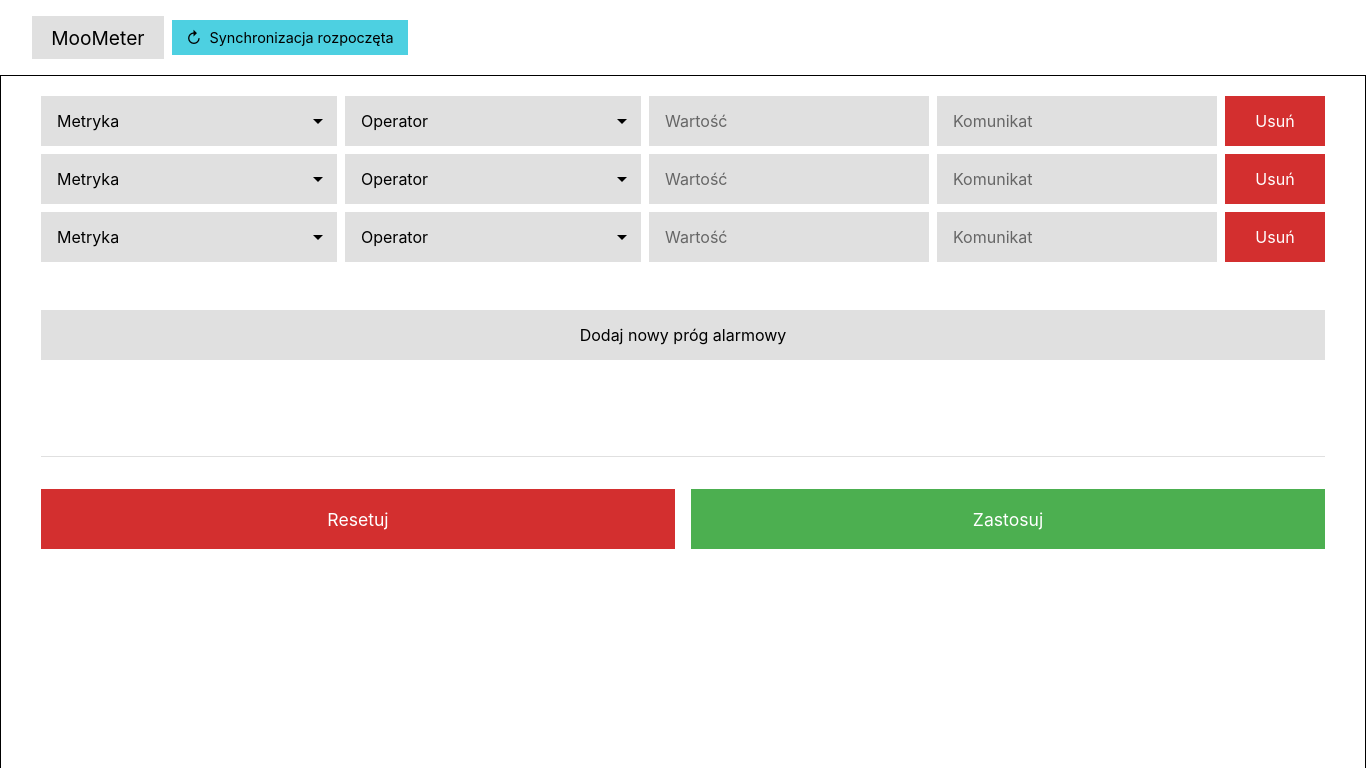
it: ThresholdForm - Formularz progów alarmowych › powinien usunąć wiersz progu po kliknięciu "Usuń"
Click the 1st button "Usuń": (1275, 121) [1225,96,1325,146]
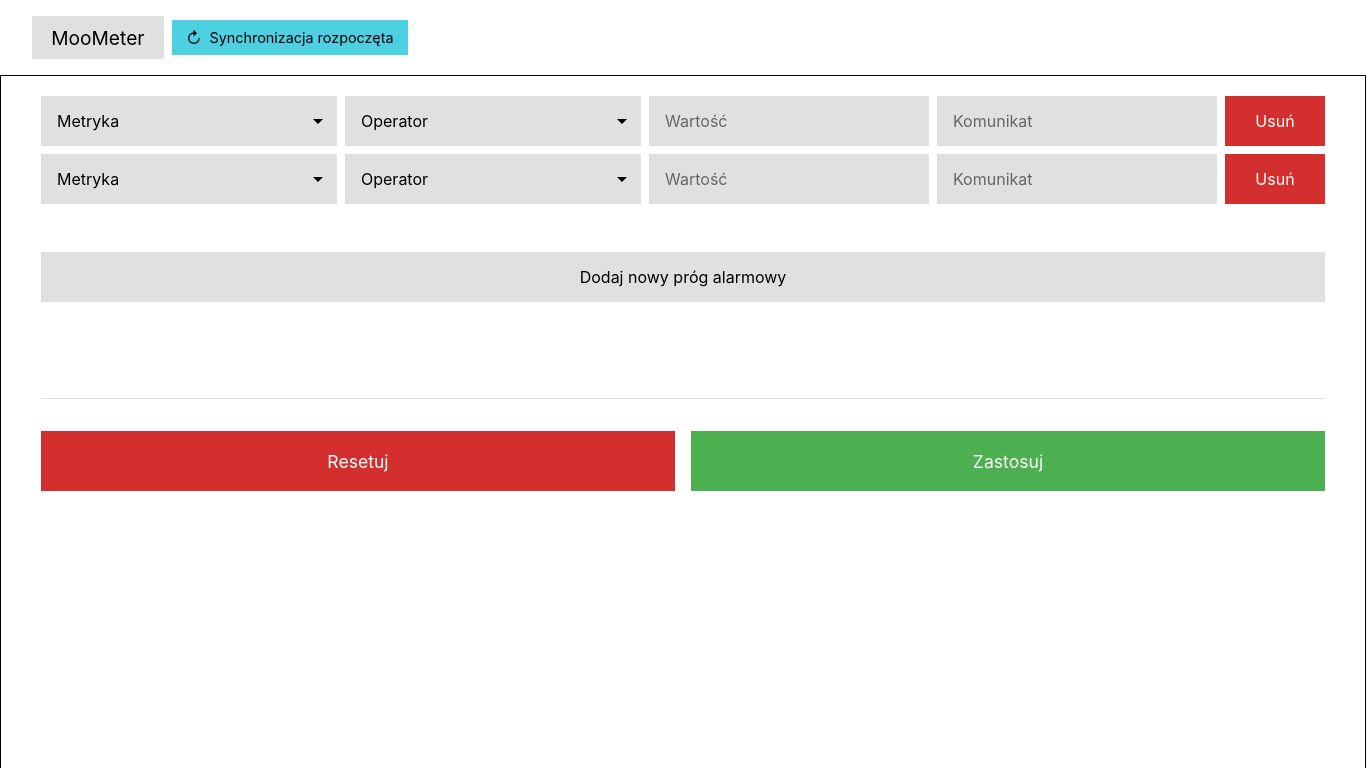
Check: the number of buttons "Usuń" is 2, box [1225,96,1325,146]; [1225,154,1325,204]
